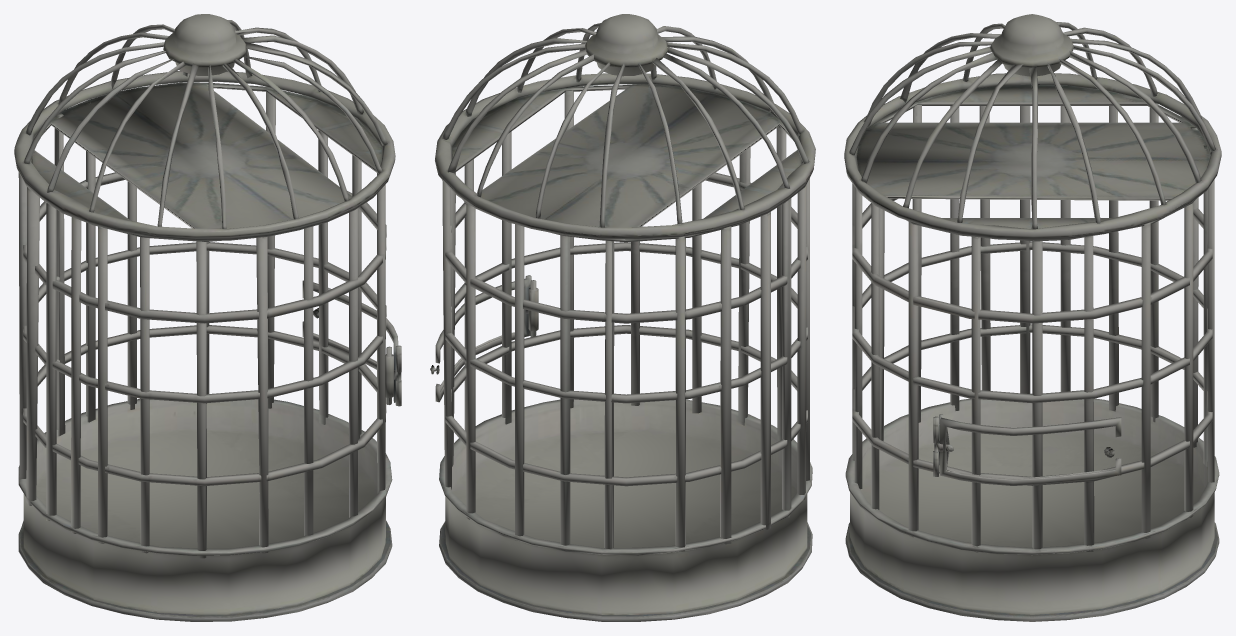
File: Cage.glb
3 views of the same model, side by side, from view 1: azimuth 30°, elevation 25°; view 2: azimuth 150°, elevation 25°; view 3: azimuth 270°, elevation 25° (orthographic).
Visible parts, largest first — view 1: tripo_node_ed13fe99-2518-418e-8155-a2b6e1959d93; view 2: tripo_node_ed13fe99-2518-418e-8155-a2b6e1959d93; view 3: tripo_node_ed13fe99-2518-418e-8155-a2b6e1959d93.
Boxes of the visible parts, box(x1,y1,x2,y2) form: tripo_node_ed13fe99-2518-418e-8155-a2b6e1959d93: box(14, 14, 401, 621); tripo_node_ed13fe99-2518-418e-8155-a2b6e1959d93: box(430, 14, 815, 621); tripo_node_ed13fe99-2518-418e-8155-a2b6e1959d93: box(844, 14, 1221, 621).
Bounding box in the file's own units: 0.6621 × 0.998 × 0.6543.
1 material, 1 textured.
